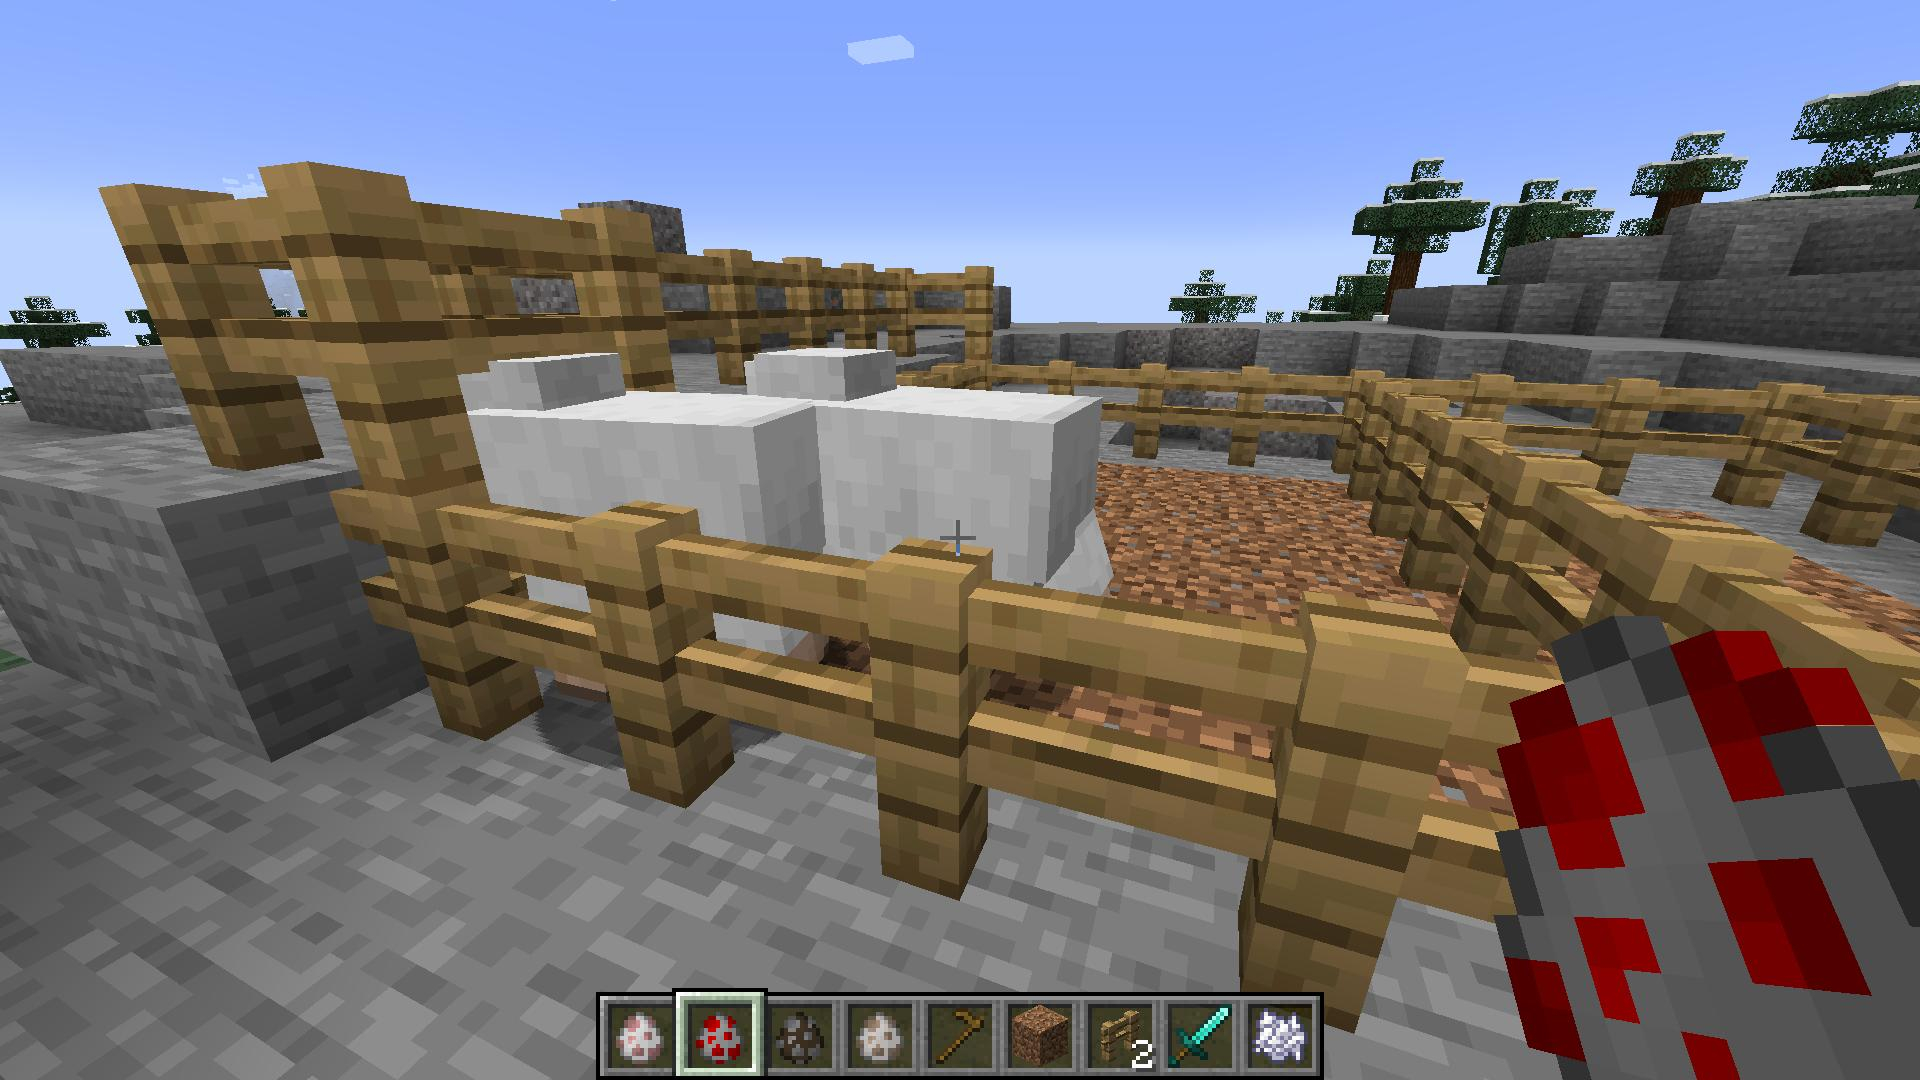sheep: (475, 343, 822, 674), (741, 345, 1127, 621)
